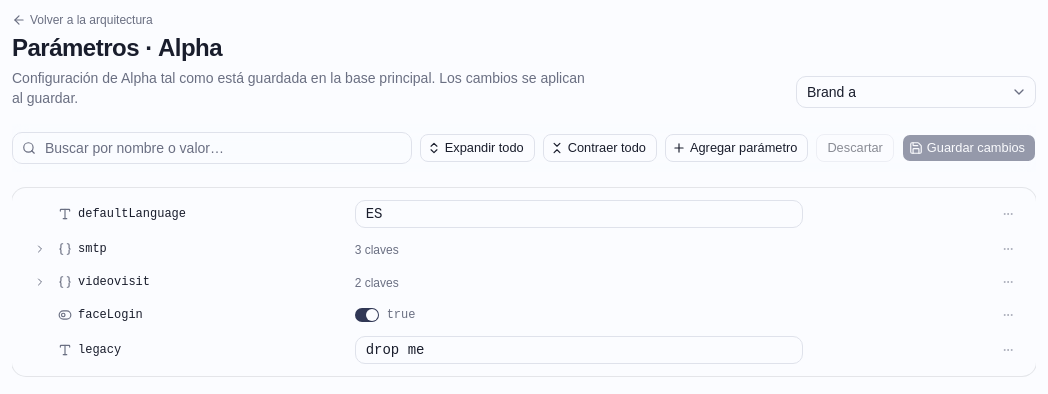
Test: BrandParamsScreen › filters the tree by name or value and expands the matches
The width and height of the screenshot is (1048, 394).
Expected: the button "smtp" is shown, left=78, top=241, right=107, bottom=257
Type "port" into the field named "Buscar parámetro" at (212, 148), box left=12, top=132, right=412, bottom=164
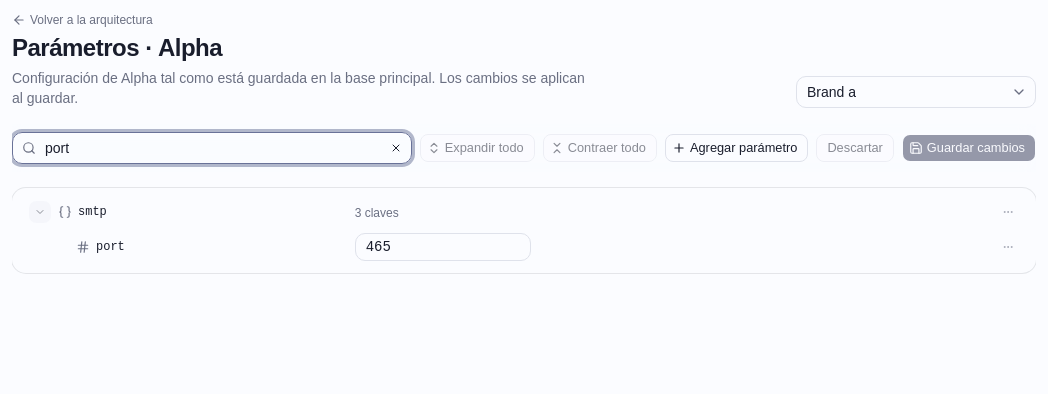
Result: the number field named "smtp.port" is shown at left=355, top=233, right=531, bottom=261
Result: the button "videovisit" is gone
Click the button named "Limpiar búsqueda" at (396, 148), box left=384, top=136, right=408, bottom=160
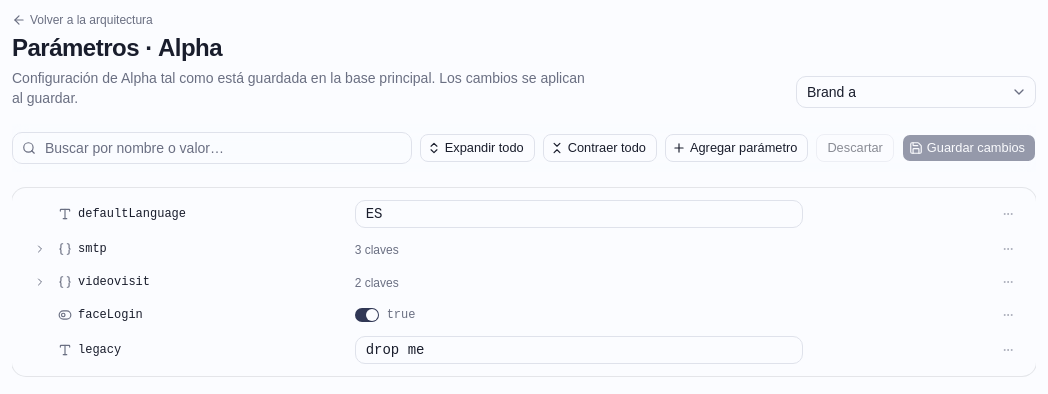
Result: the button "videovisit" is shown at left=78, top=274, right=150, bottom=290
